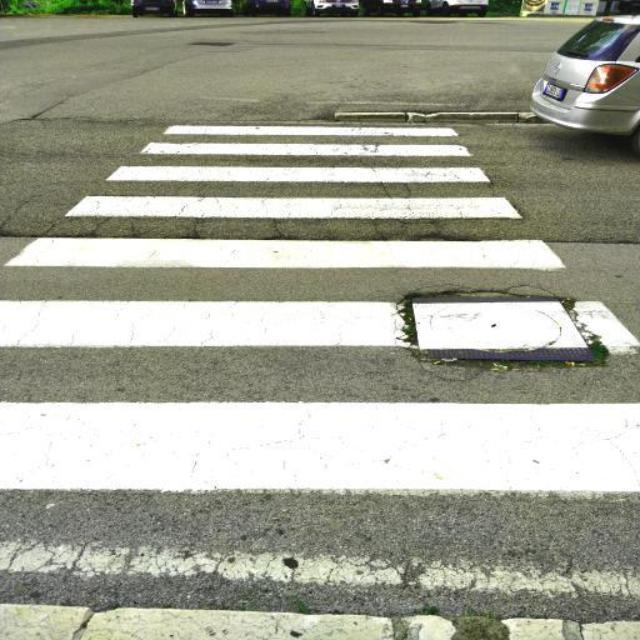sidewalk: (0, 117, 640, 640)
